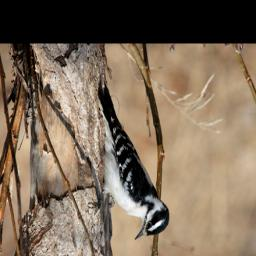Woodpecker: (87, 77, 170, 240)
